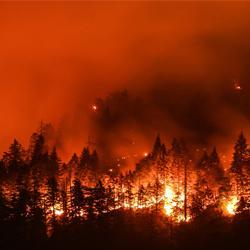fire: (166, 186, 188, 217), (220, 193, 238, 216), (56, 206, 64, 219)
